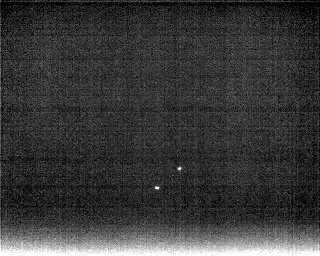BIRD: (175, 163, 184, 174)
